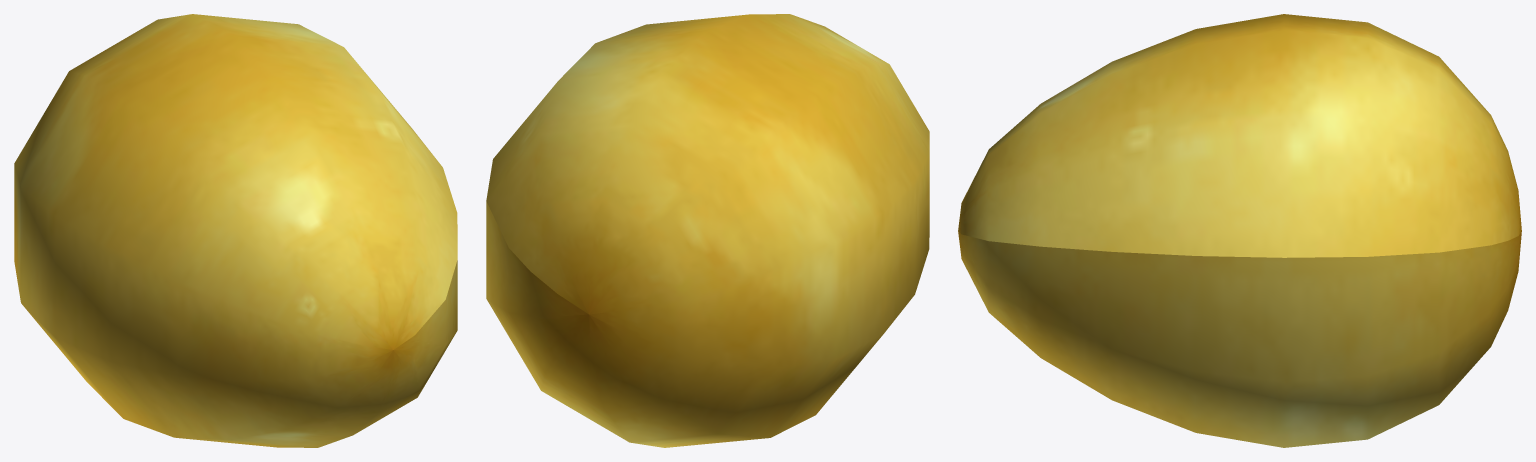
Rendered from huevo_2.fbx.
3 views of the same model, side by side, from view 1: azimuth 30°, elevation 25°; view 2: azimuth 150°, elevation 25°; view 3: azimuth 270°, elevation 25° (orthographic).
Visible parts, largest first — view 1: s4studio_mesh_0; view 2: s4studio_mesh_0; view 3: s4studio_mesh_0.
Boxes of the visible parts, x1=… form: s4studio_mesh_0: x1=14, y1=14, x2=457, y2=447; s4studio_mesh_0: x1=486, y1=14, x2=929, y2=447; s4studio_mesh_0: x1=958, y1=14, x2=1521, y2=447.
Bounding box in the file's own units: 5.59 × 5.88 × 7.5.
1 material, 1 textured.
